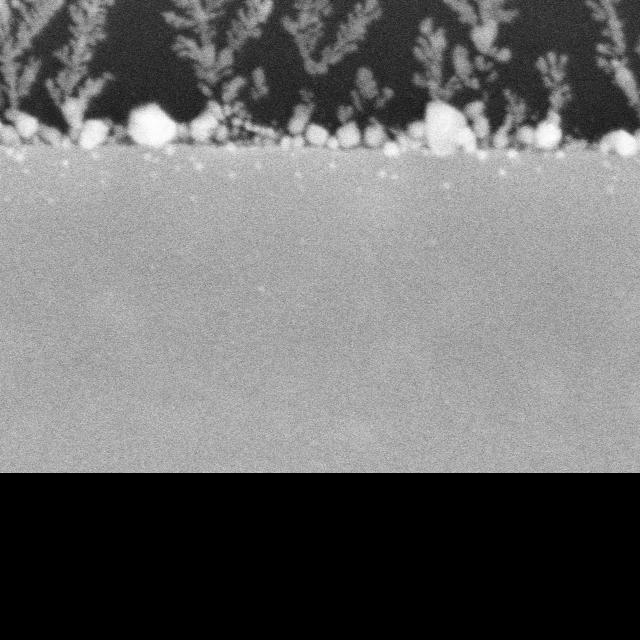Dendrite: (120, 0, 272, 146), (265, 0, 382, 150), (413, 0, 523, 154), (0, 0, 86, 150), (48, 0, 112, 143), (336, 67, 388, 151), (533, 51, 572, 150), (359, 122, 426, 156), (600, 129, 640, 159), (78, 119, 110, 148), (103, 124, 128, 144)
